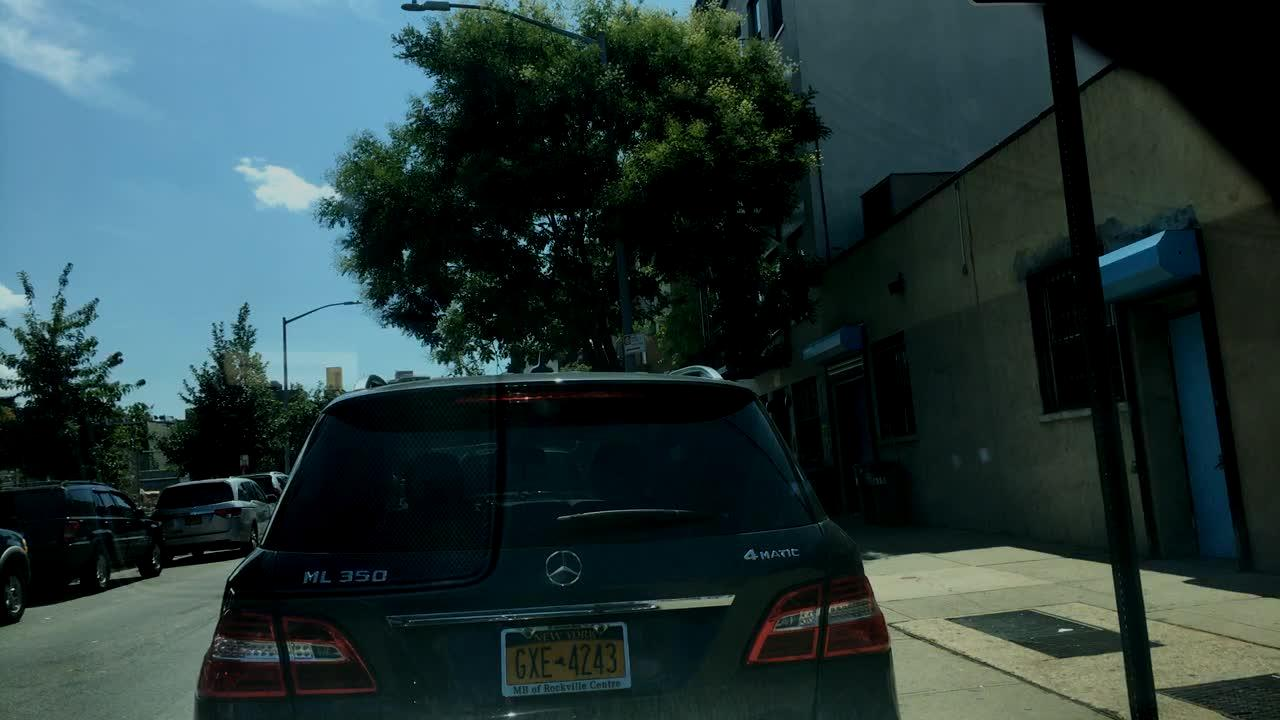Mercedes: (533, 540, 592, 596)
